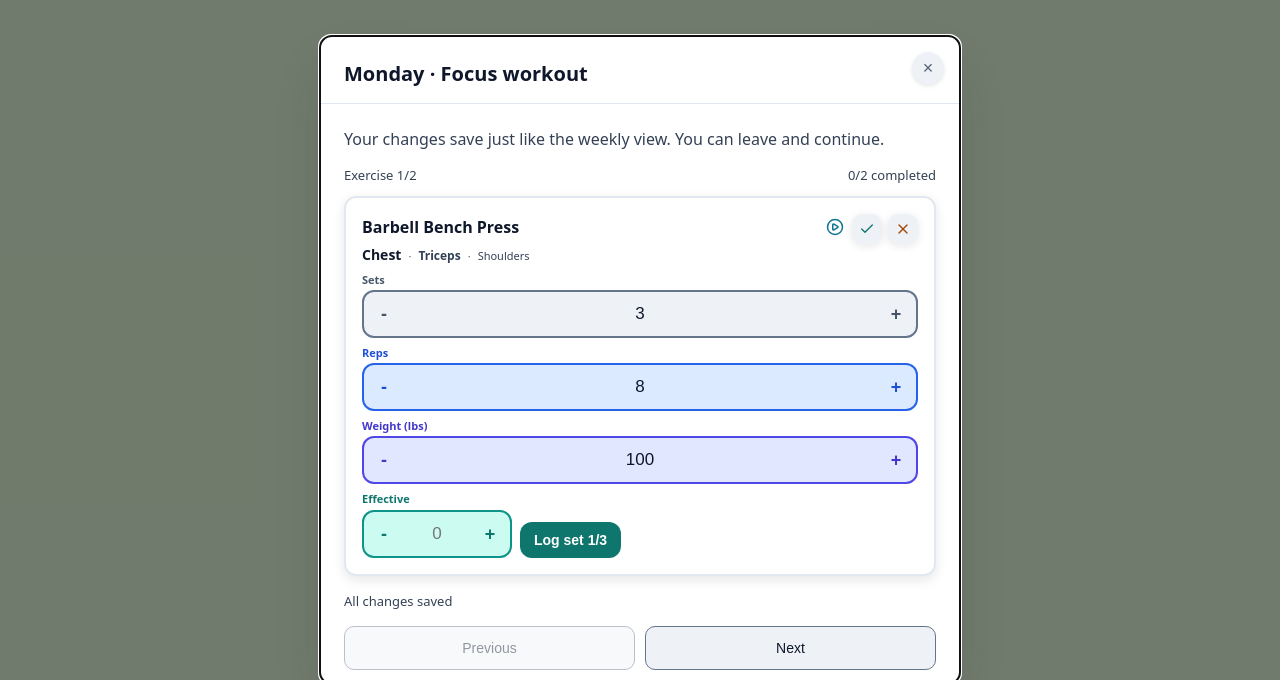
Scenario: workout experience › focus mode logs through the same day update and navigates without completing the next exercise
Click the button "Log set 1/3".
click(571, 540)  # box [520, 522, 621, 558]
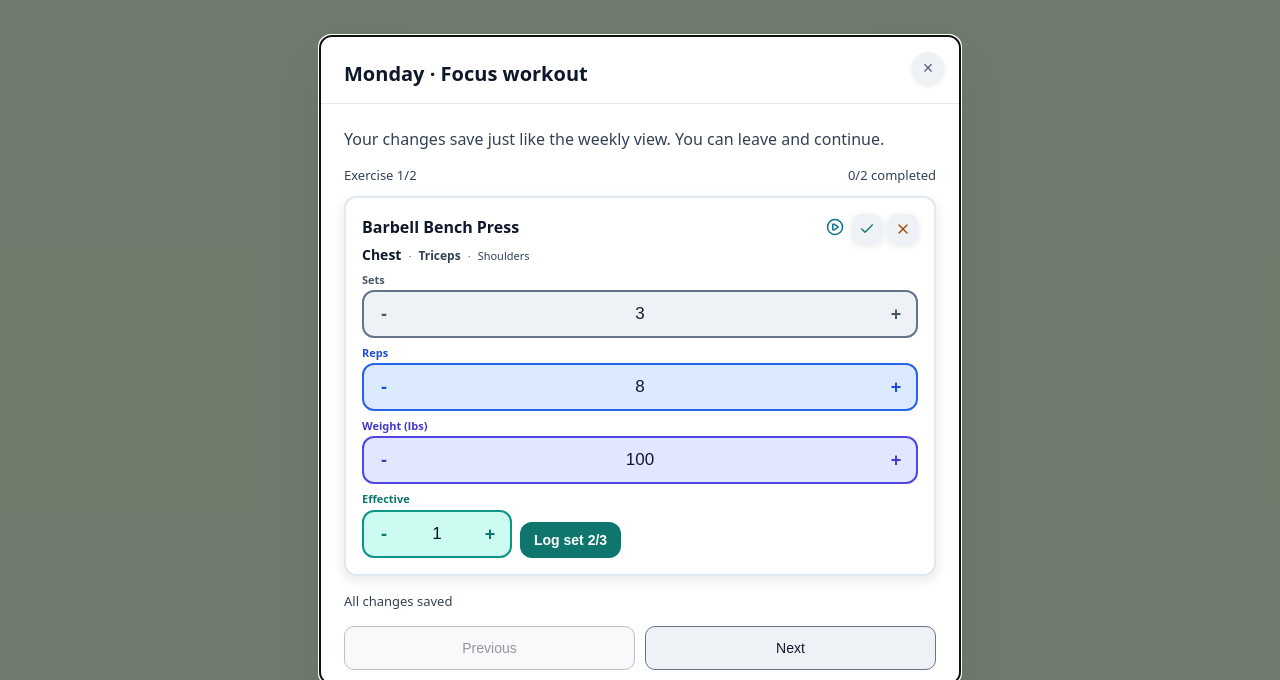
Now the button "Log set 2/3" is shown, box [520, 522, 621, 558]
Click the button "Next".
click(790, 648)  # box [645, 626, 936, 670]
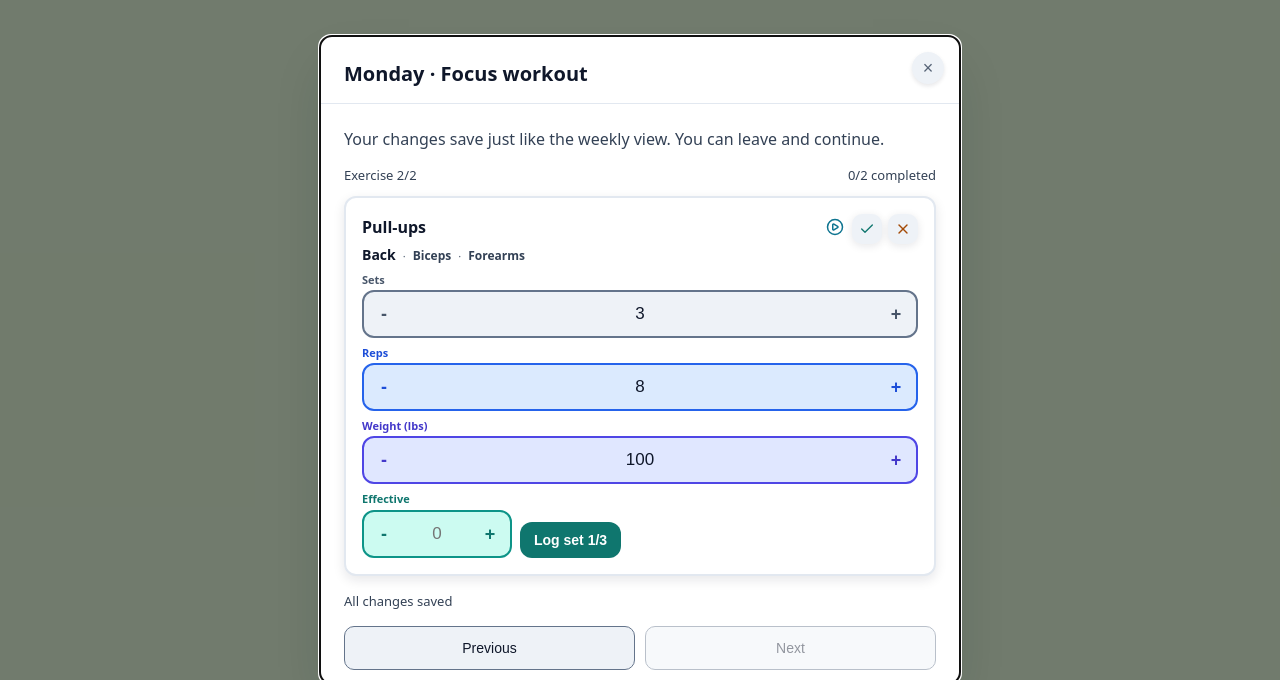
Now the heading "Pull-ups" is shown, box [362, 216, 426, 238]
Now the button "Log set 1/3" is shown, box [520, 522, 621, 558]
Click the button "Previous".
click(490, 648)  # box [344, 626, 635, 670]
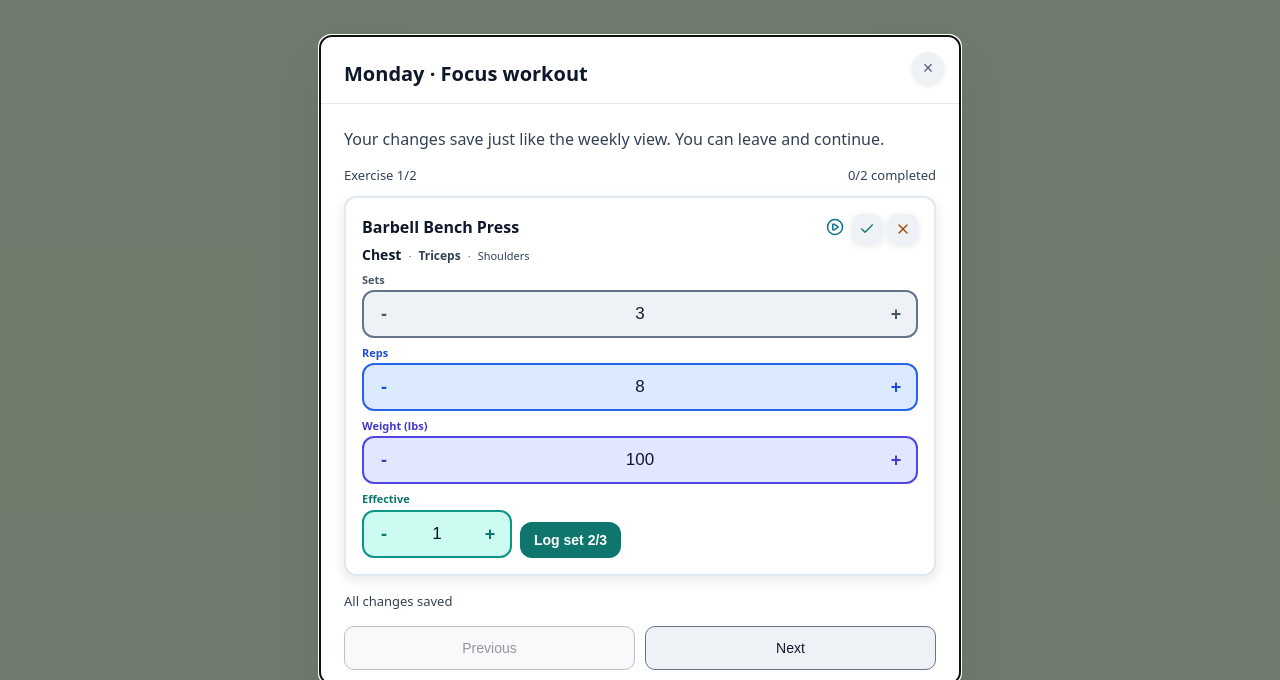
Now the button "Log set 2/3" is shown, box [520, 522, 621, 558]
